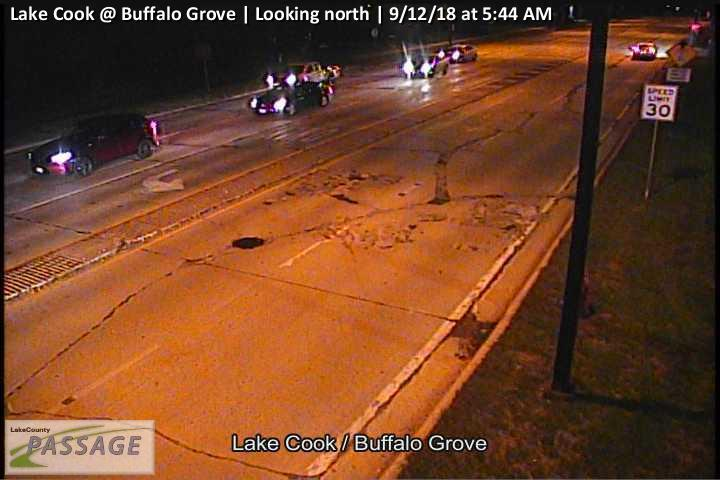SUV: (29, 113, 159, 177)
Sedan: (248, 81, 334, 115), (403, 56, 449, 79), (440, 44, 478, 60), (632, 41, 657, 59)
Truck: (266, 62, 343, 91)
